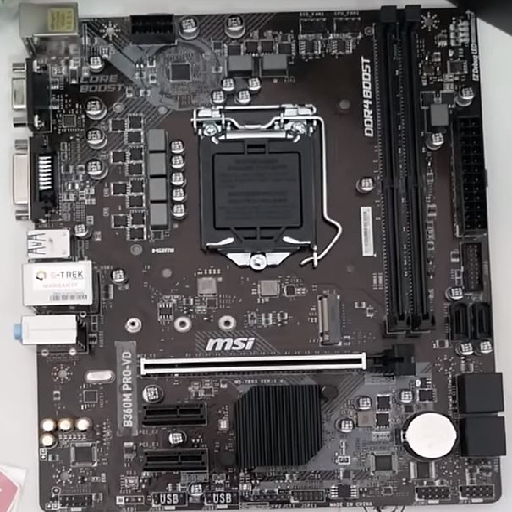CPU: (193, 101, 331, 270)
GPU: (133, 342, 417, 382)
MOTHERBOARD: (9, 9, 505, 504)
RAM: (372, 6, 437, 335)
SSD: (314, 291, 344, 346)
